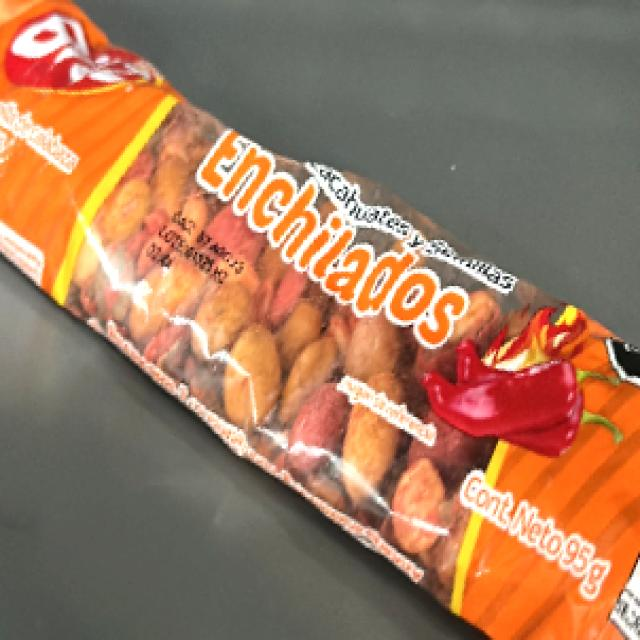bitzEnchilado95: (34, 121, 584, 487)
